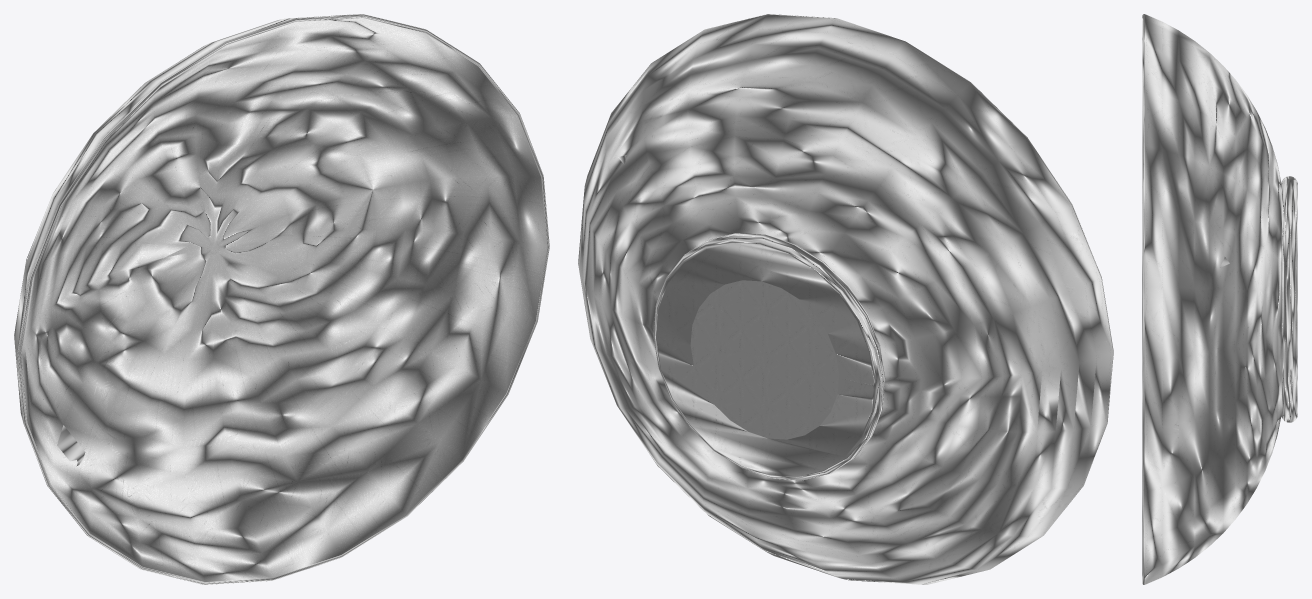
Rendered from model_align.obj.
3 renders of one model, left to right at view 1: azimuth 30°, elevation 25°; view 2: azimuth 150°, elevation 25°; view 3: azimuth 270°, elevation 25°, orthographic. The views are drawn at different scales.
Size of the model in its own units: 0.1497 by 0.1497 by 0.0407.
3 materials, 3 textured.
